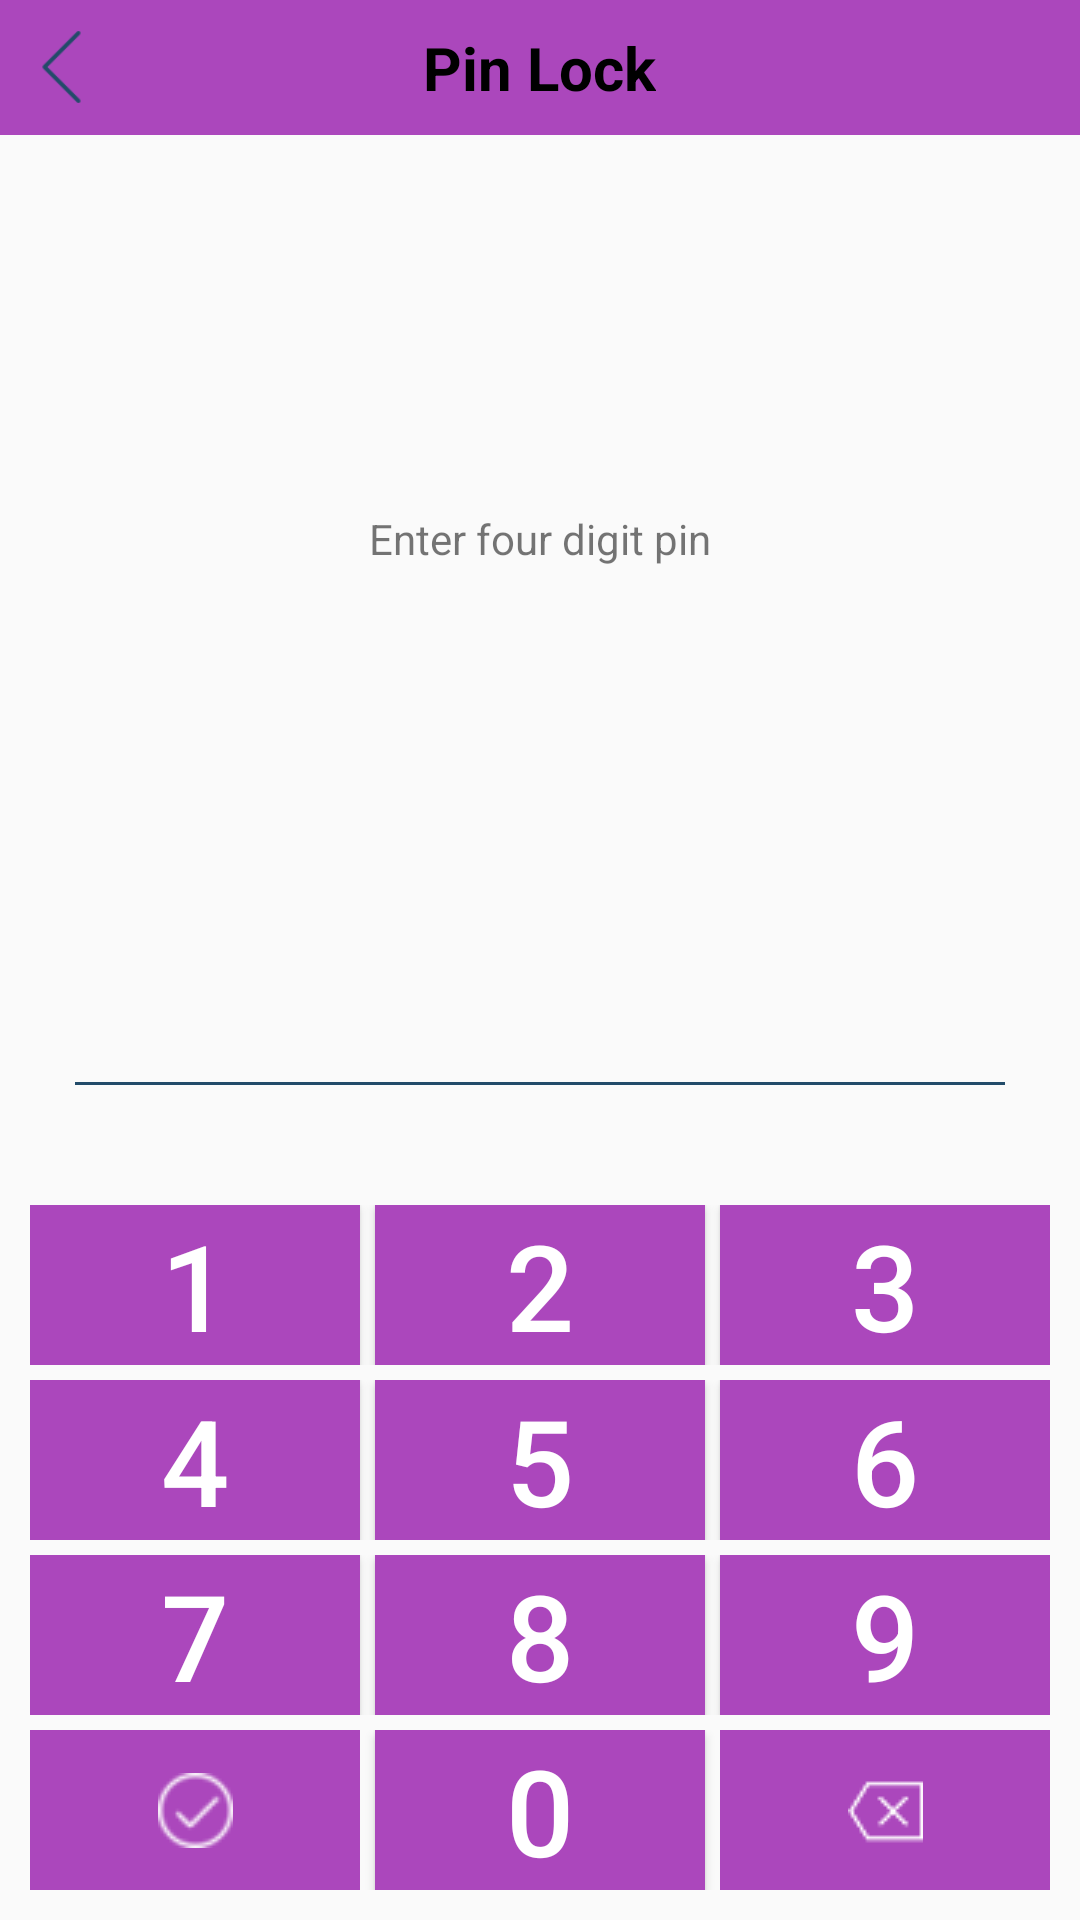

Where to tap for icons on this 1080 × 1920 app screen, as (x=x, y=y):
back: (x=61, y=67)
backspace: (x=885, y=1810)
tick: (x=195, y=1810)
